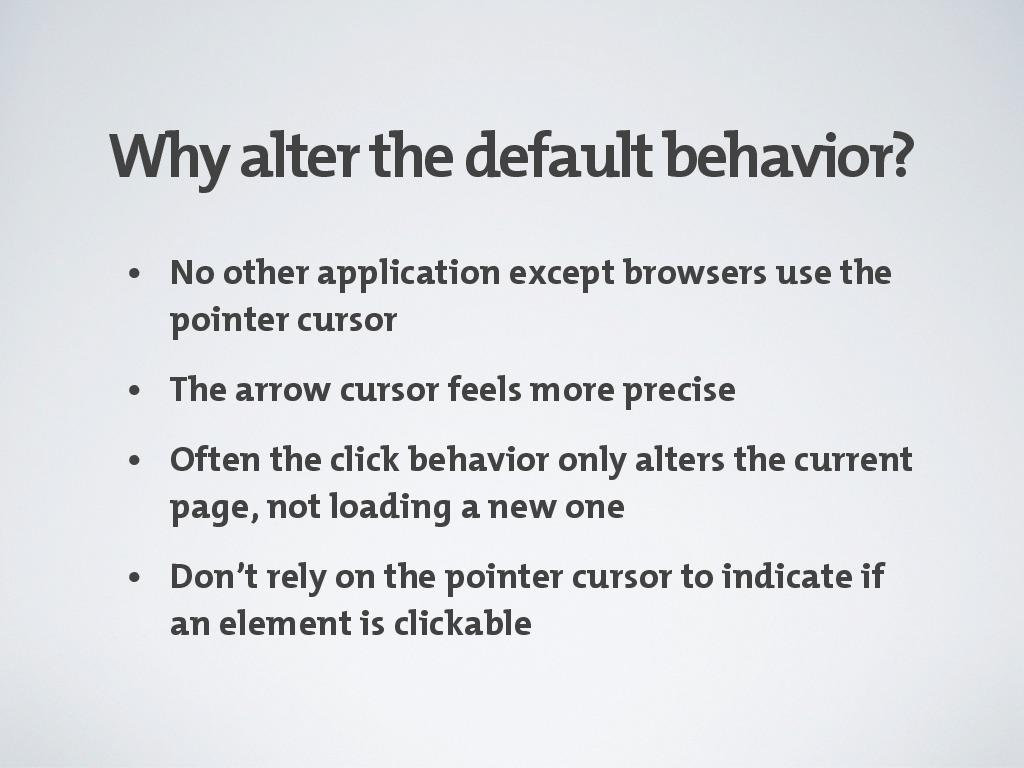paragraph: (110, 250, 933, 656)
title: (98, 113, 936, 202)
